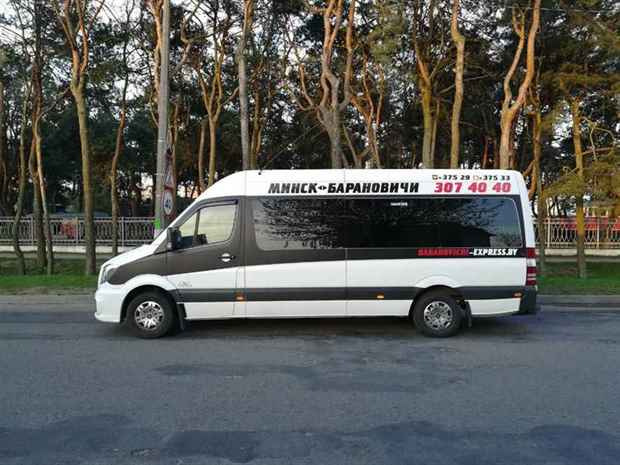van: (91, 167, 541, 337)
